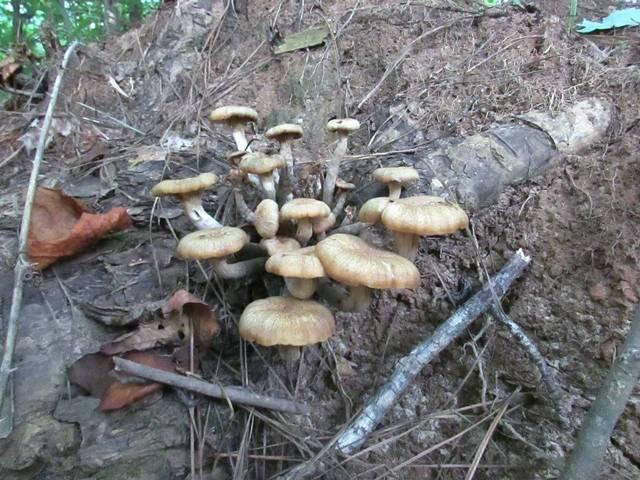Edible Mushroom: (150, 103, 469, 361)
